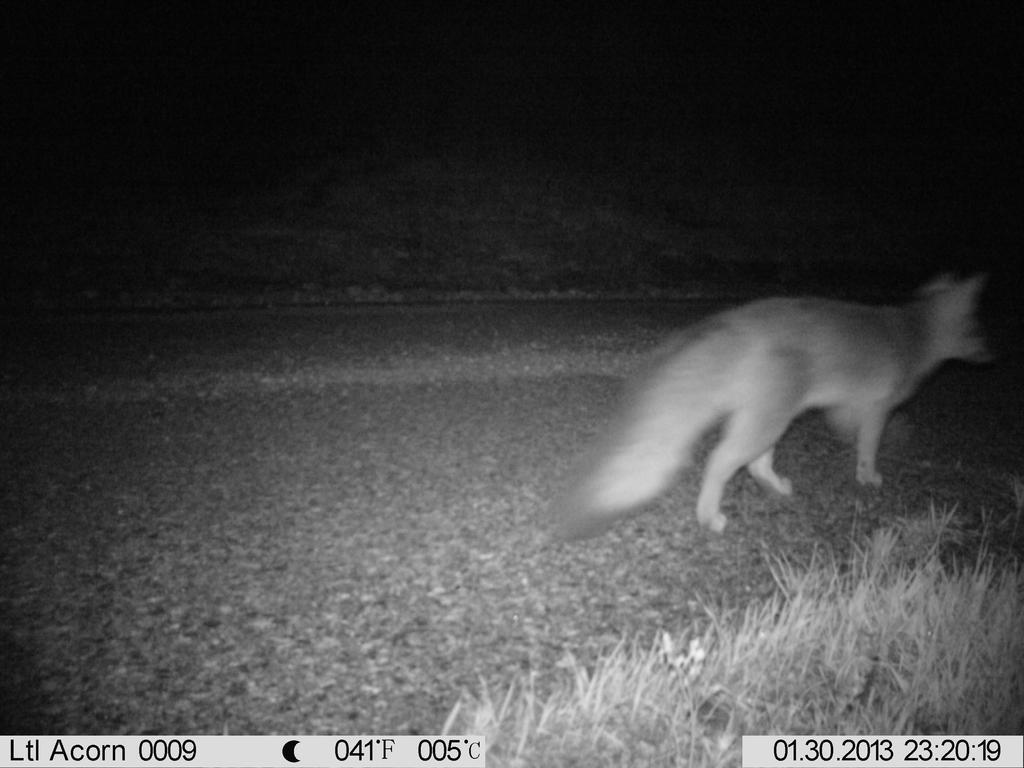fox: (541, 271, 1008, 549)
